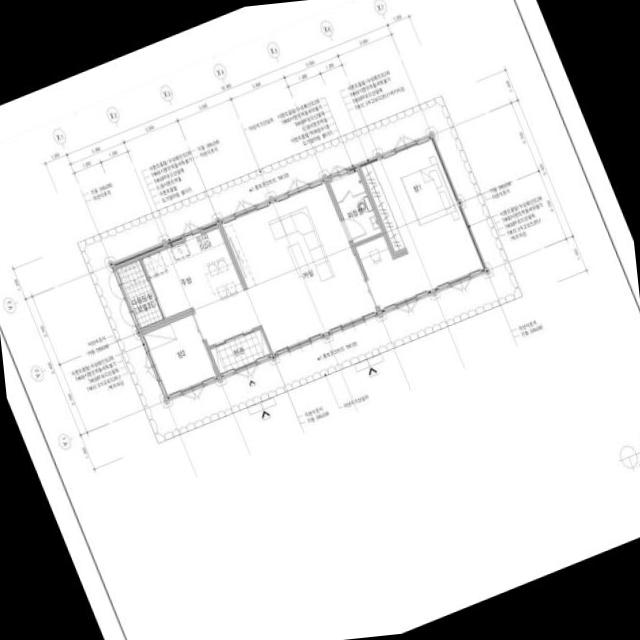background: (0, 0, 640, 640)
space_bedroom: (355, 138, 483, 308), (142, 314, 215, 395)
space_front: (209, 328, 269, 373)
space_kitchen: (141, 226, 261, 344)
space_living_room: (221, 182, 376, 353)
space_other: (115, 259, 162, 327)
space_toilet: (329, 170, 380, 241)
